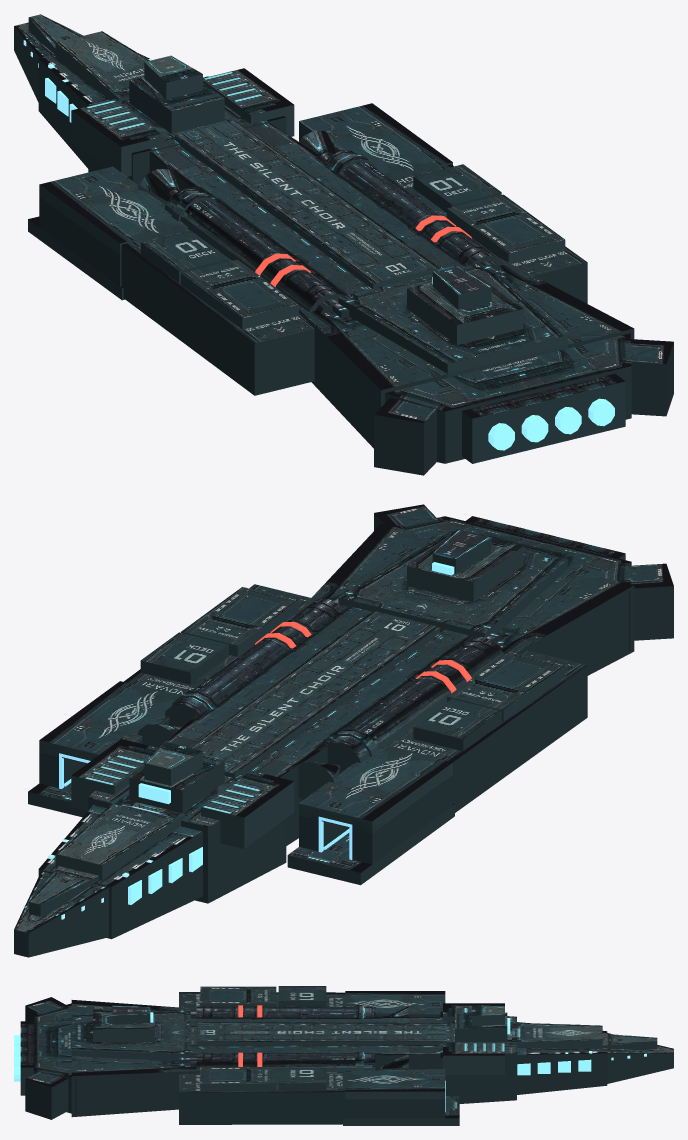
File: choirship.glb
3 views of the same model, one above another, from view 1: azimuth 30°, elevation 25°; view 2: azimuth 150°, elevation 25°; view 3: azimuth 270°, elevation 25° (orthographic). The views are drawn at different scales.
Visible parts, largest first — view 1: Choir_SpineFrame, Choir_SternMain, Choir_Sponson_Port, Choir_Hull_Main, Choir_SternCap, Choir_SternDeck, Choir_SternEngineBlock, Choir_BayRoof_Port, Choir_Nacelle_Port, Choir_BayRoof_Stbd, Choir_SponsonStep_Port, Choir_SponsonStep_Stbd (+21 smaller); view 2: Choir_SpineFrame, Choir_SternMain, Choir_Hull_Main, Choir_Sponson_Port, Choir_SternDeck, Choir_BayRoof_Port, Choir_ProwBody, Choir_Nacelle_Port, Choir_BayRoof_Stbd, Choir_BridgeBase, Choir_ProwPlate, Choir_Cheek_P (+24 smaller); view 3: Choir_SternMain, Choir_Sponson_Stbd, Choir_SpineFrame, Choir_Hull_Main, Choir_SternDeck, Choir_ProwBody, Choir_BayRoof_Stbd, Choir_SternCap, Choir_BridgeBase, Choir_Nacelle_Stbd, Choir_ProwPlate, Choir_BayRoof_Port (+20 smaller).
Boxes of the visible parts, bbox=[...] form: Choir_SpineFrame: bbox=[175, 121, 439, 288]; Choir_SternMain: bbox=[299, 255, 634, 448]; Choir_Sponson_Port: bbox=[121, 228, 314, 395]; Choir_Hull_Main: bbox=[149, 123, 500, 317]; Choir_SternCap: bbox=[377, 333, 631, 463]; Choir_SternDeck: bbox=[338, 261, 567, 377]; Choir_SternEngineBlock: bbox=[462, 373, 625, 463]; Choir_BayRoof_Port: bbox=[39, 166, 188, 255]; Choir_Nacelle_Port: bbox=[164, 188, 341, 312]; Choir_BayRoof_Stbd: bbox=[299, 103, 452, 178]; Choir_SponsonStep_Port: bbox=[181, 259, 298, 329]; Choir_SponsonStep_Stbd: bbox=[447, 194, 565, 263]; Choir_SpineFrame: bbox=[190, 610, 439, 777]; Choir_SternMain: bbox=[295, 523, 634, 675]; Choir_Hull_Main: bbox=[158, 595, 500, 845]; Choir_Sponson_Port: bbox=[387, 651, 587, 812]; Choir_SternDeck: bbox=[338, 530, 567, 637]; Choir_BayRoof_Port: bbox=[299, 746, 452, 833]; Choir_ProwBody: bbox=[38, 805, 202, 939]; Choir_Nacelle_Port: bbox=[326, 637, 503, 773]; Choir_BayRoof_Stbd: bbox=[39, 681, 180, 763]; Choir_BridgeBase: bbox=[88, 775, 286, 903]; Choir_ProwPlate: bbox=[55, 798, 185, 880]; Choir_Cheek_P: bbox=[201, 770, 294, 848]; Choir_SternMain: bbox=[71, 1000, 200, 1117]; Choir_Sponson_Stbd: bbox=[179, 1072, 345, 1124]; Choir_SpineFrame: bbox=[196, 1022, 446, 1045]; Choir_Hull_Main: bbox=[179, 1013, 440, 1069]; Choir_SternDeck: bbox=[71, 1010, 190, 1061]; Choir_ProwBody: bbox=[517, 1022, 607, 1094]; Choir_BayRoof_Stbd: bbox=[345, 1069, 445, 1099]; Choir_SternCap: bbox=[33, 1003, 76, 1114]; Choir_BridgeBase: bbox=[440, 1011, 516, 1103]; Choir_Nacelle_Stbd: bbox=[196, 1053, 375, 1071]; Choir_ProwPlate: bbox=[512, 1022, 602, 1048]; Choir_BayRoof_Port: bbox=[345, 991, 445, 1017].
Bounding box in the file's own units: 10 × 3.83 × 27.72.
Materials: 10 (1 with a texture image).
